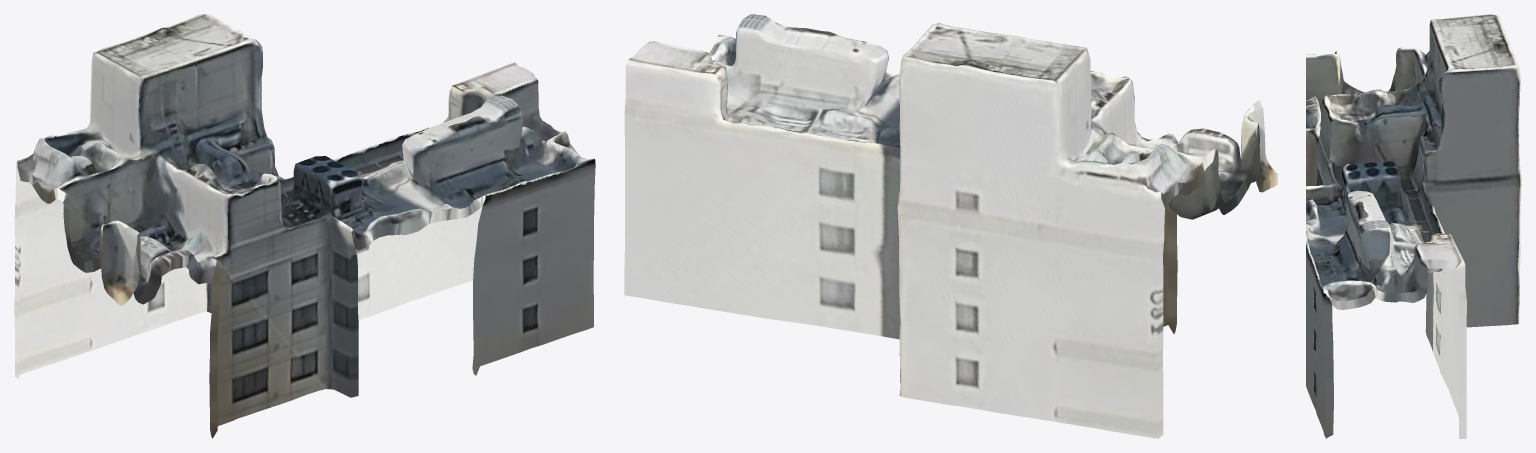
File: z20-167756-405237-h1-yup-uvflip-v3-world.glb
3 renders of one model, left to right at view 1: azimuth 30°, elevation 25°; view 2: azimuth 150°, elevation 25°; view 3: azimuth 270°, elevation 25°, orthographic. The views are drawn at different scales.
Bounding box in the file's own units: 30.2 × 18.48 × 13.56.
1 material, 1 textured.
